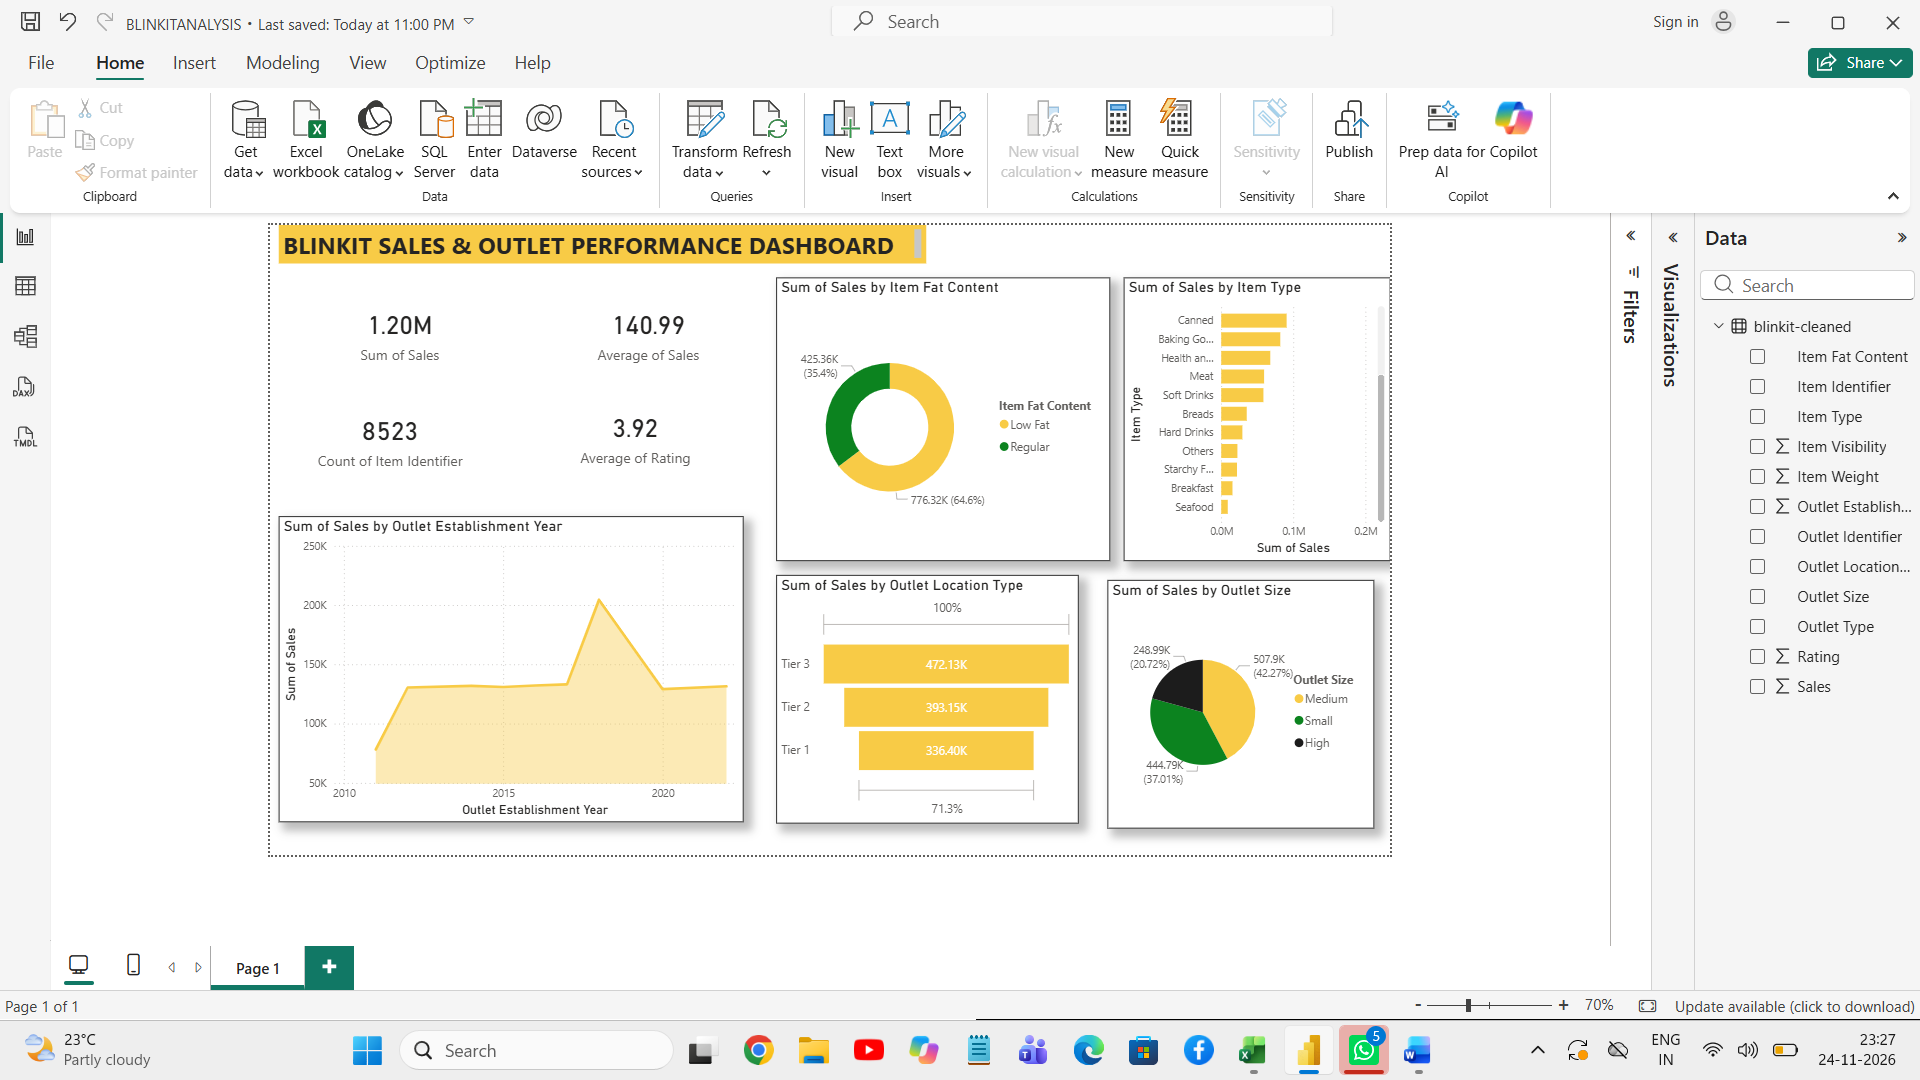

The dashboard page shown, as its layout file describes it:
{"tool":"powerbi","page":{"name":"Page 1","canvas":[1280,720],"ordinal":0},"visuals":[{"type":"textbox","box":[9.6,0,739.6,43.9],"z":0},{"type":"card","fields":{"Values":["Sum(blinkit-cleaned.Sales)"]},"box":[9.6,74.1,277.2,98.8],"z":1000},{"type":"card","fields":{"Values":["CountNonNull(blinkit-cleaned.Item Identifier)"]},"box":[6.9,197.6,260.7,94.7],"z":2000},{"type":"card","fields":{"Values":["Avg(blinkit-cleaned.Sales)"]},"box":[304.6,74.1,256.6,98.8],"z":3000},{"type":"card","fields":{"Values":["Avg(blinkit-cleaned.Rating)"]},"box":[293.7,194.9,247,93.3],"z":4000},{"type":"donutChart","fields":{"Category":["blinkit-cleaned.Item Fat Content"],"Y":["Sum(blinkit-cleaned.Sales)"]},"box":[579.1,60.4,381.5,323.8],"z":4001},{"type":"clusteredBarChart","fields":{"Y":["Sum(blinkit-cleaned.Sales)"],"Category":["blinkit-cleaned.Item Type"]},"box":[975.6,60.4,304.6,323.8],"z":4002},{"type":"areaChart","fields":{"Y":["Sum(blinkit-cleaned.Sales)"],"Category":["blinkit-cleaned.Outlet Establishment Year"]},"box":[9.6,333.4,531,349.9],"z":4003},{"type":"funnel","fields":{"Category":["blinkit-cleaned.Outlet Location Type"],"Y":["Sum(blinkit-cleaned.Sales)"]},"box":[579.1,399.3,345.8,284],"z":4004},{"type":"pieChart","fields":{"Category":["blinkit-cleaned.Outlet Size"],"Y":["Sum(blinkit-cleaned.Sales)"]},"box":[956.4,406.2,304.6,284],"z":4005}]}

Visuals, with their boxes on the page's 1280x720 design canvas (x1, y1, x2, y2). These are canvas units, not pixel positions in the 1920x1080 screenshot, which may show the page scaled, cropped or inside an application window:
textbox: locate(10, 0, 749, 44)
card - Sum(blinkit-cleaned.Sales): locate(10, 74, 287, 173)
card - CountNonNull(blinkit-cleaned.Item Identifier): locate(7, 198, 268, 292)
card - Avg(blinkit-cleaned.Sales): locate(305, 74, 561, 173)
card - Avg(blinkit-cleaned.Rating): locate(294, 195, 541, 288)
donutChart - blinkit-cleaned.Item Fat Content x Sum(blinkit-cleaned.Sales): locate(579, 60, 961, 384)
clusteredBarChart - Sum(blinkit-cleaned.Sales) x blinkit-cleaned.Item Type: locate(976, 60, 1280, 384)
areaChart - Sum(blinkit-cleaned.Sales) x blinkit-cleaned.Outlet Establishment Year: locate(10, 333, 541, 683)
funnel - blinkit-cleaned.Outlet Location Type x Sum(blinkit-cleaned.Sales): locate(579, 399, 925, 683)
pieChart - blinkit-cleaned.Outlet Size x Sum(blinkit-cleaned.Sales): locate(956, 406, 1261, 690)
